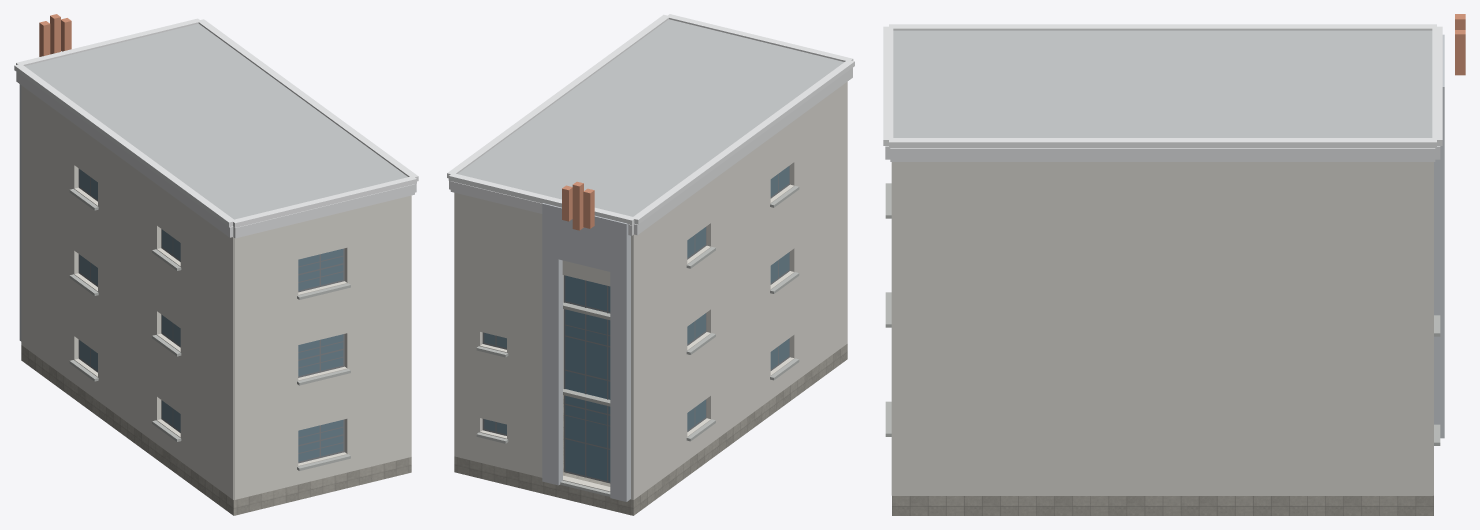
3 renders of one model, left to right at view 1: azimuth 30°, elevation 25°; view 2: azimuth 150°, elevation 25°; view 3: azimuth 270°, elevation 25°, orthographic. The views are drawn at different scales.
Visible parts, largest first — view 1: achigwan-tower__basepaint, achigwan-tower__roof, achigwan-tower__cap, achigwan-tower__stone, achigwan-tower__sideglass, achigwan-tower__panel, achigwan-tower__sill, achigwan-tower__frame, achigwan-tower__terracotta, achigwan-tower__band; view 2: achigwan-tower__basepaint, achigwan-tower__roof, achigwan-tower__band, achigwan-tower__glass, achigwan-tower__cap, achigwan-tower__stone, achigwan-tower__panel, achigwan-tower__frame, achigwan-tower__sideglass, achigwan-tower__sill, achigwan-tower__terracotta, achigwan-tower__slab; view 3: achigwan-tower__basepaint, achigwan-tower__roof, achigwan-tower__cap, achigwan-tower__stone, achigwan-tower__panel, achigwan-tower__band, achigwan-tower__sill, achigwan-tower__terracotta.
Boxes of the visible parts, box(x1,y1,x2,y2) form: achigwan-tower__basepaint: box(21, 85, 411, 499); achigwan-tower__roof: box(25, 23, 407, 219); achigwan-tower__cap: box(14, 18, 418, 227); achigwan-tower__stone: box(21, 345, 411, 515); achigwan-tower__sideglass: box(79, 169, 343, 461); achigwan-tower__panel: box(16, 72, 416, 238); achigwan-tower__sill: box(69, 189, 350, 470); achigwan-tower__frame: box(78, 168, 344, 463); achigwan-tower__terracotta: box(39, 14, 71, 56); achigwan-tower__band: box(19, 84, 21, 341); achigwan-tower__basepaint: box(454, 82, 847, 499); achigwan-tower__roof: box(458, 19, 844, 216); achigwan-tower__band: box(542, 203, 630, 501); achigwan-tower__glass: box(565, 275, 610, 481); achigwan-tower__cap: box(447, 14, 854, 225); achigwan-tower__stone: box(454, 344, 847, 515); achigwan-tower__panel: box(449, 68, 852, 235); achigwan-tower__frame: box(482, 165, 789, 483); achigwan-tower__sideglass: box(484, 166, 789, 434); achigwan-tower__sill: box(476, 186, 799, 496); achigwan-tower__terracotta: box(562, 181, 594, 230); achigwan-tower__slab: box(563, 275, 610, 406); achigwan-tower__basepaint: box(891, 162, 1433, 495); achigwan-tower__roof: box(893, 30, 1432, 137); achigwan-tower__cap: box(883, 24, 1442, 148); achigwan-tower__stone: box(892, 495, 1433, 515); achigwan-tower__panel: box(885, 146, 1440, 161); achigwan-tower__band: box(1434, 34, 1444, 438); achigwan-tower__sill: box(885, 183, 1440, 445); achigwan-tower__terracotta: box(1455, 14, 1465, 75).
Bounding box in the file's own units: 9.28 × 15.24 × 19.35.
12 materials, 1 textured.
